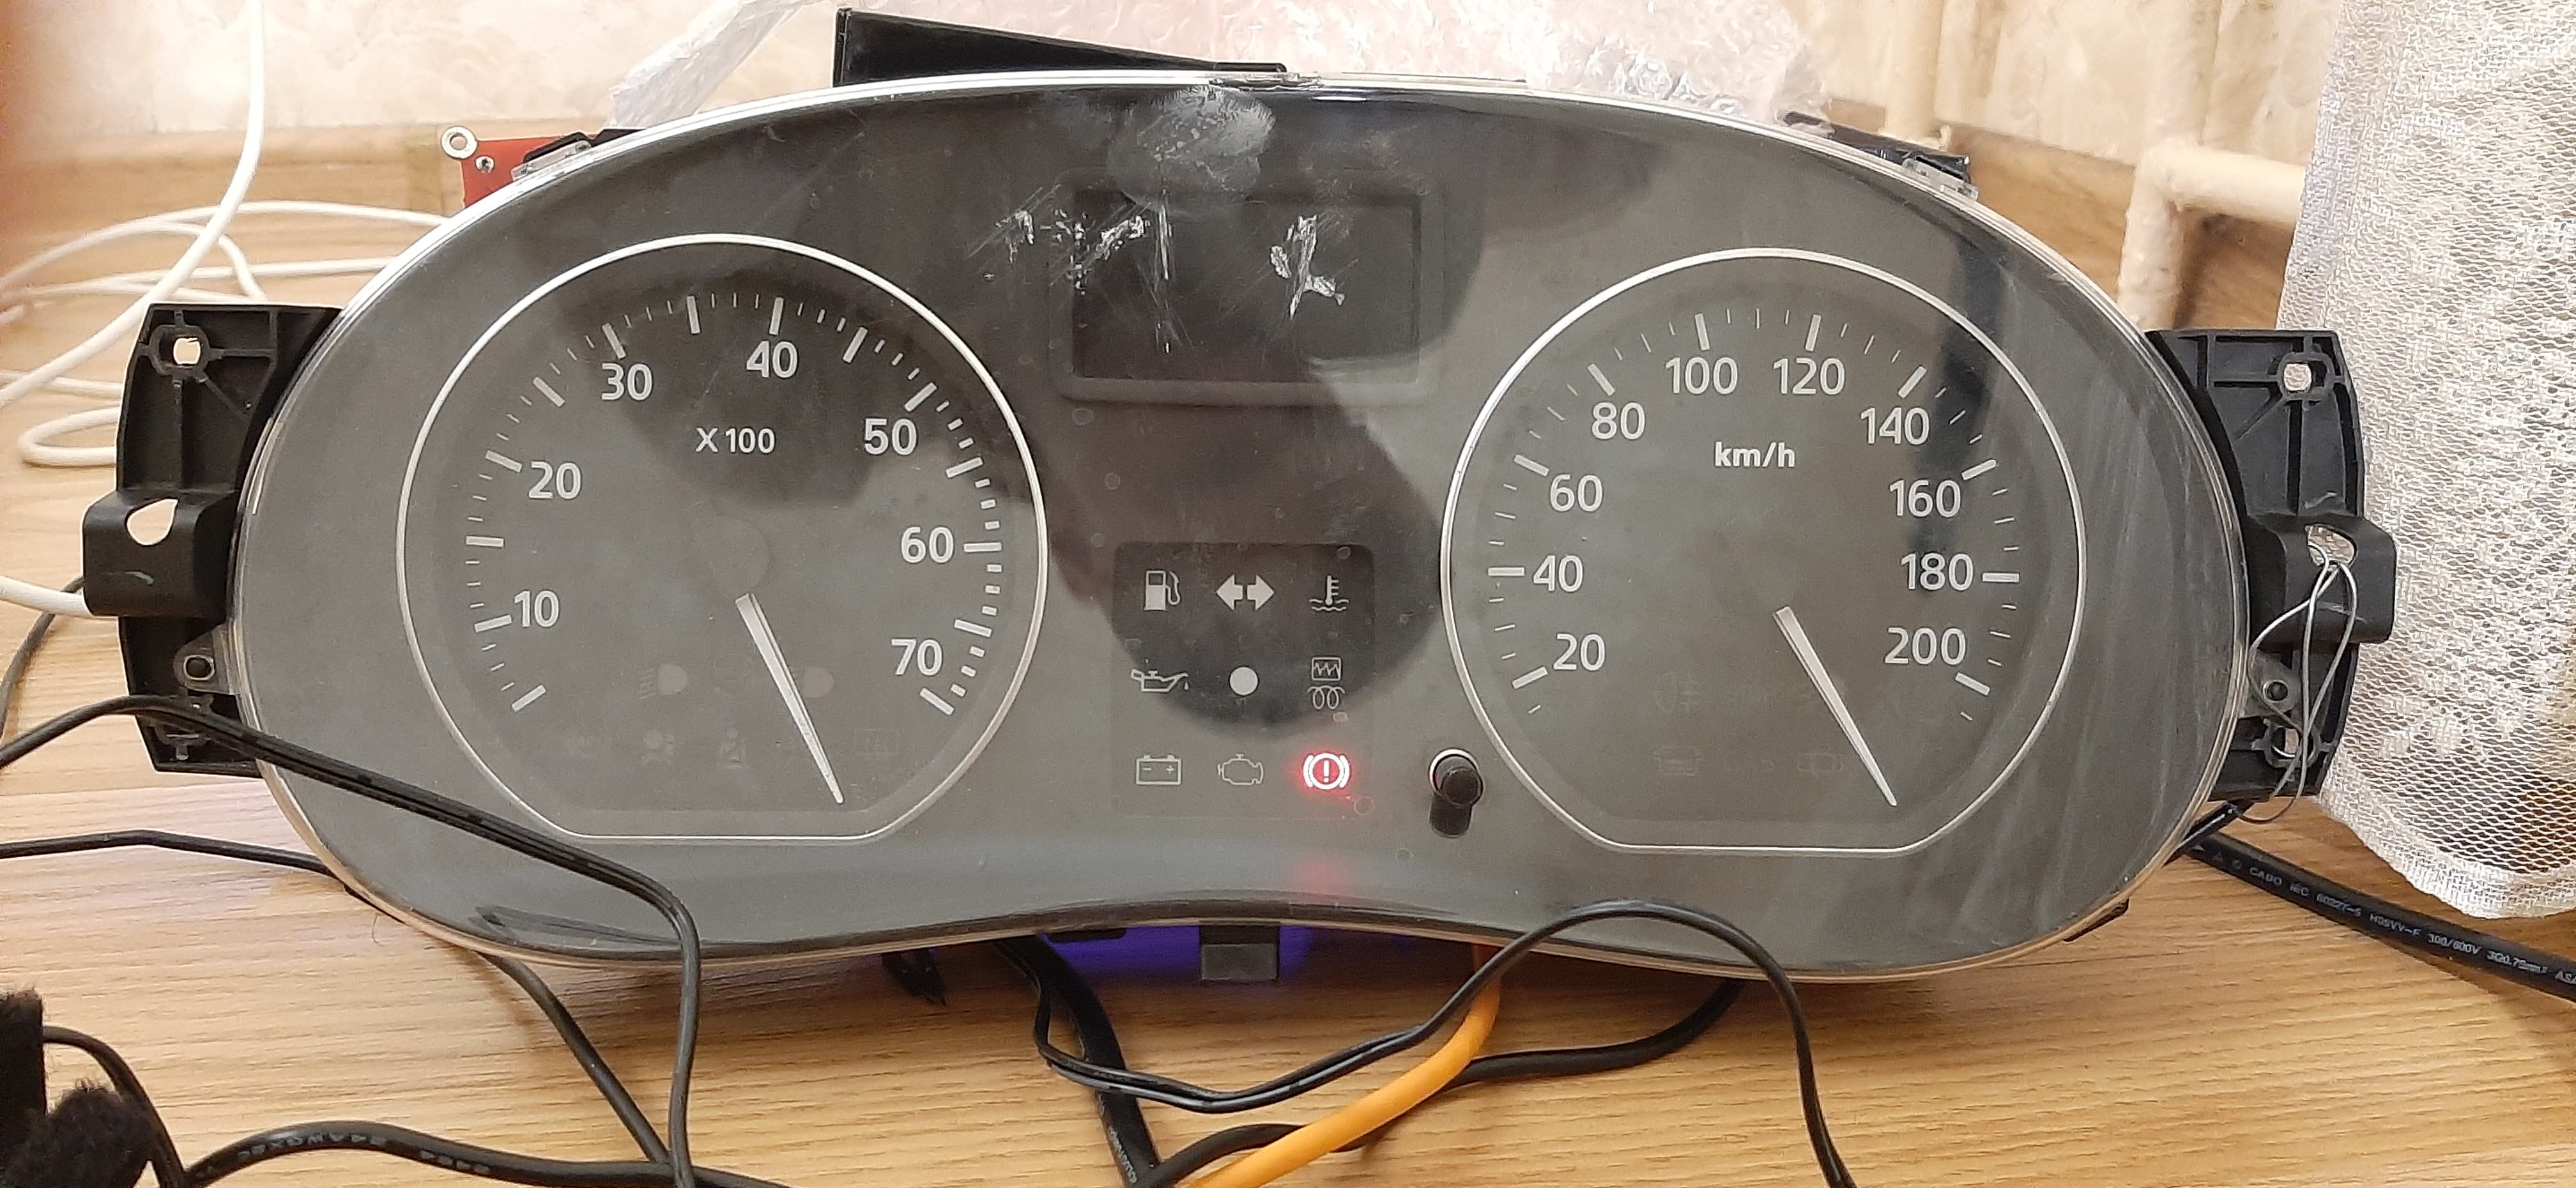brake1: (1301, 749, 1350, 794)
